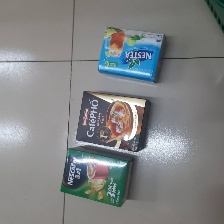CF pho: (75, 90, 152, 153)
Nes Rang: (59, 148, 133, 207)
Nestea: (96, 25, 167, 83)
